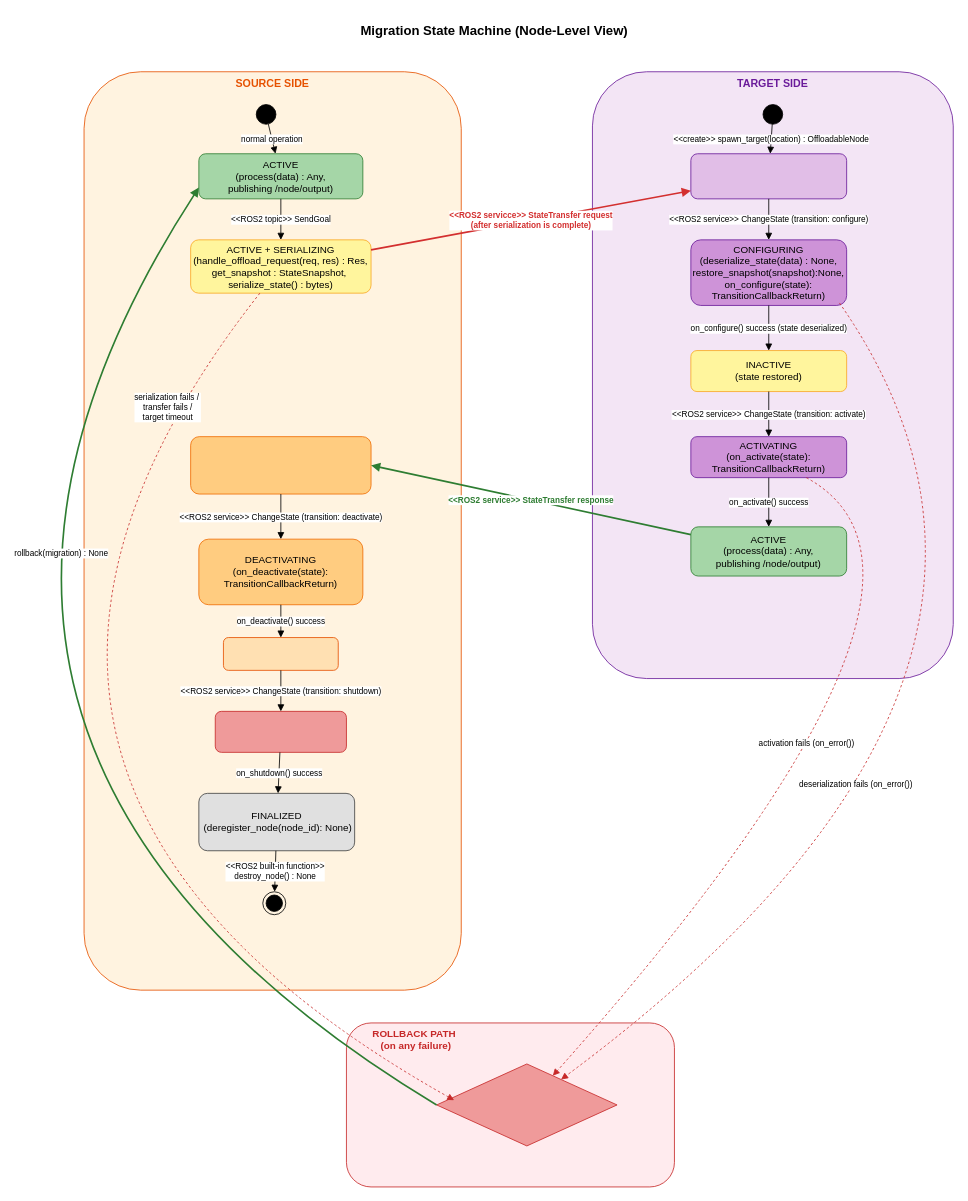
The diagram is 968 pixels wide and 1201 high, and some of its shapes have lost their labels. Here are the shapes that lost their labels. From the top down, the centre of each, then its label:
(768,176): UNCONFIGURED
(280,465): ACTIVE + MUTING (handle_mute_request(req, res): Res)
(280,653): INACTIVE
(280,731): SHUTTING DOWN (on_shutdown())
(526,1104): FAILURE DETECTED (serialization, transfer, or target activation failed)
